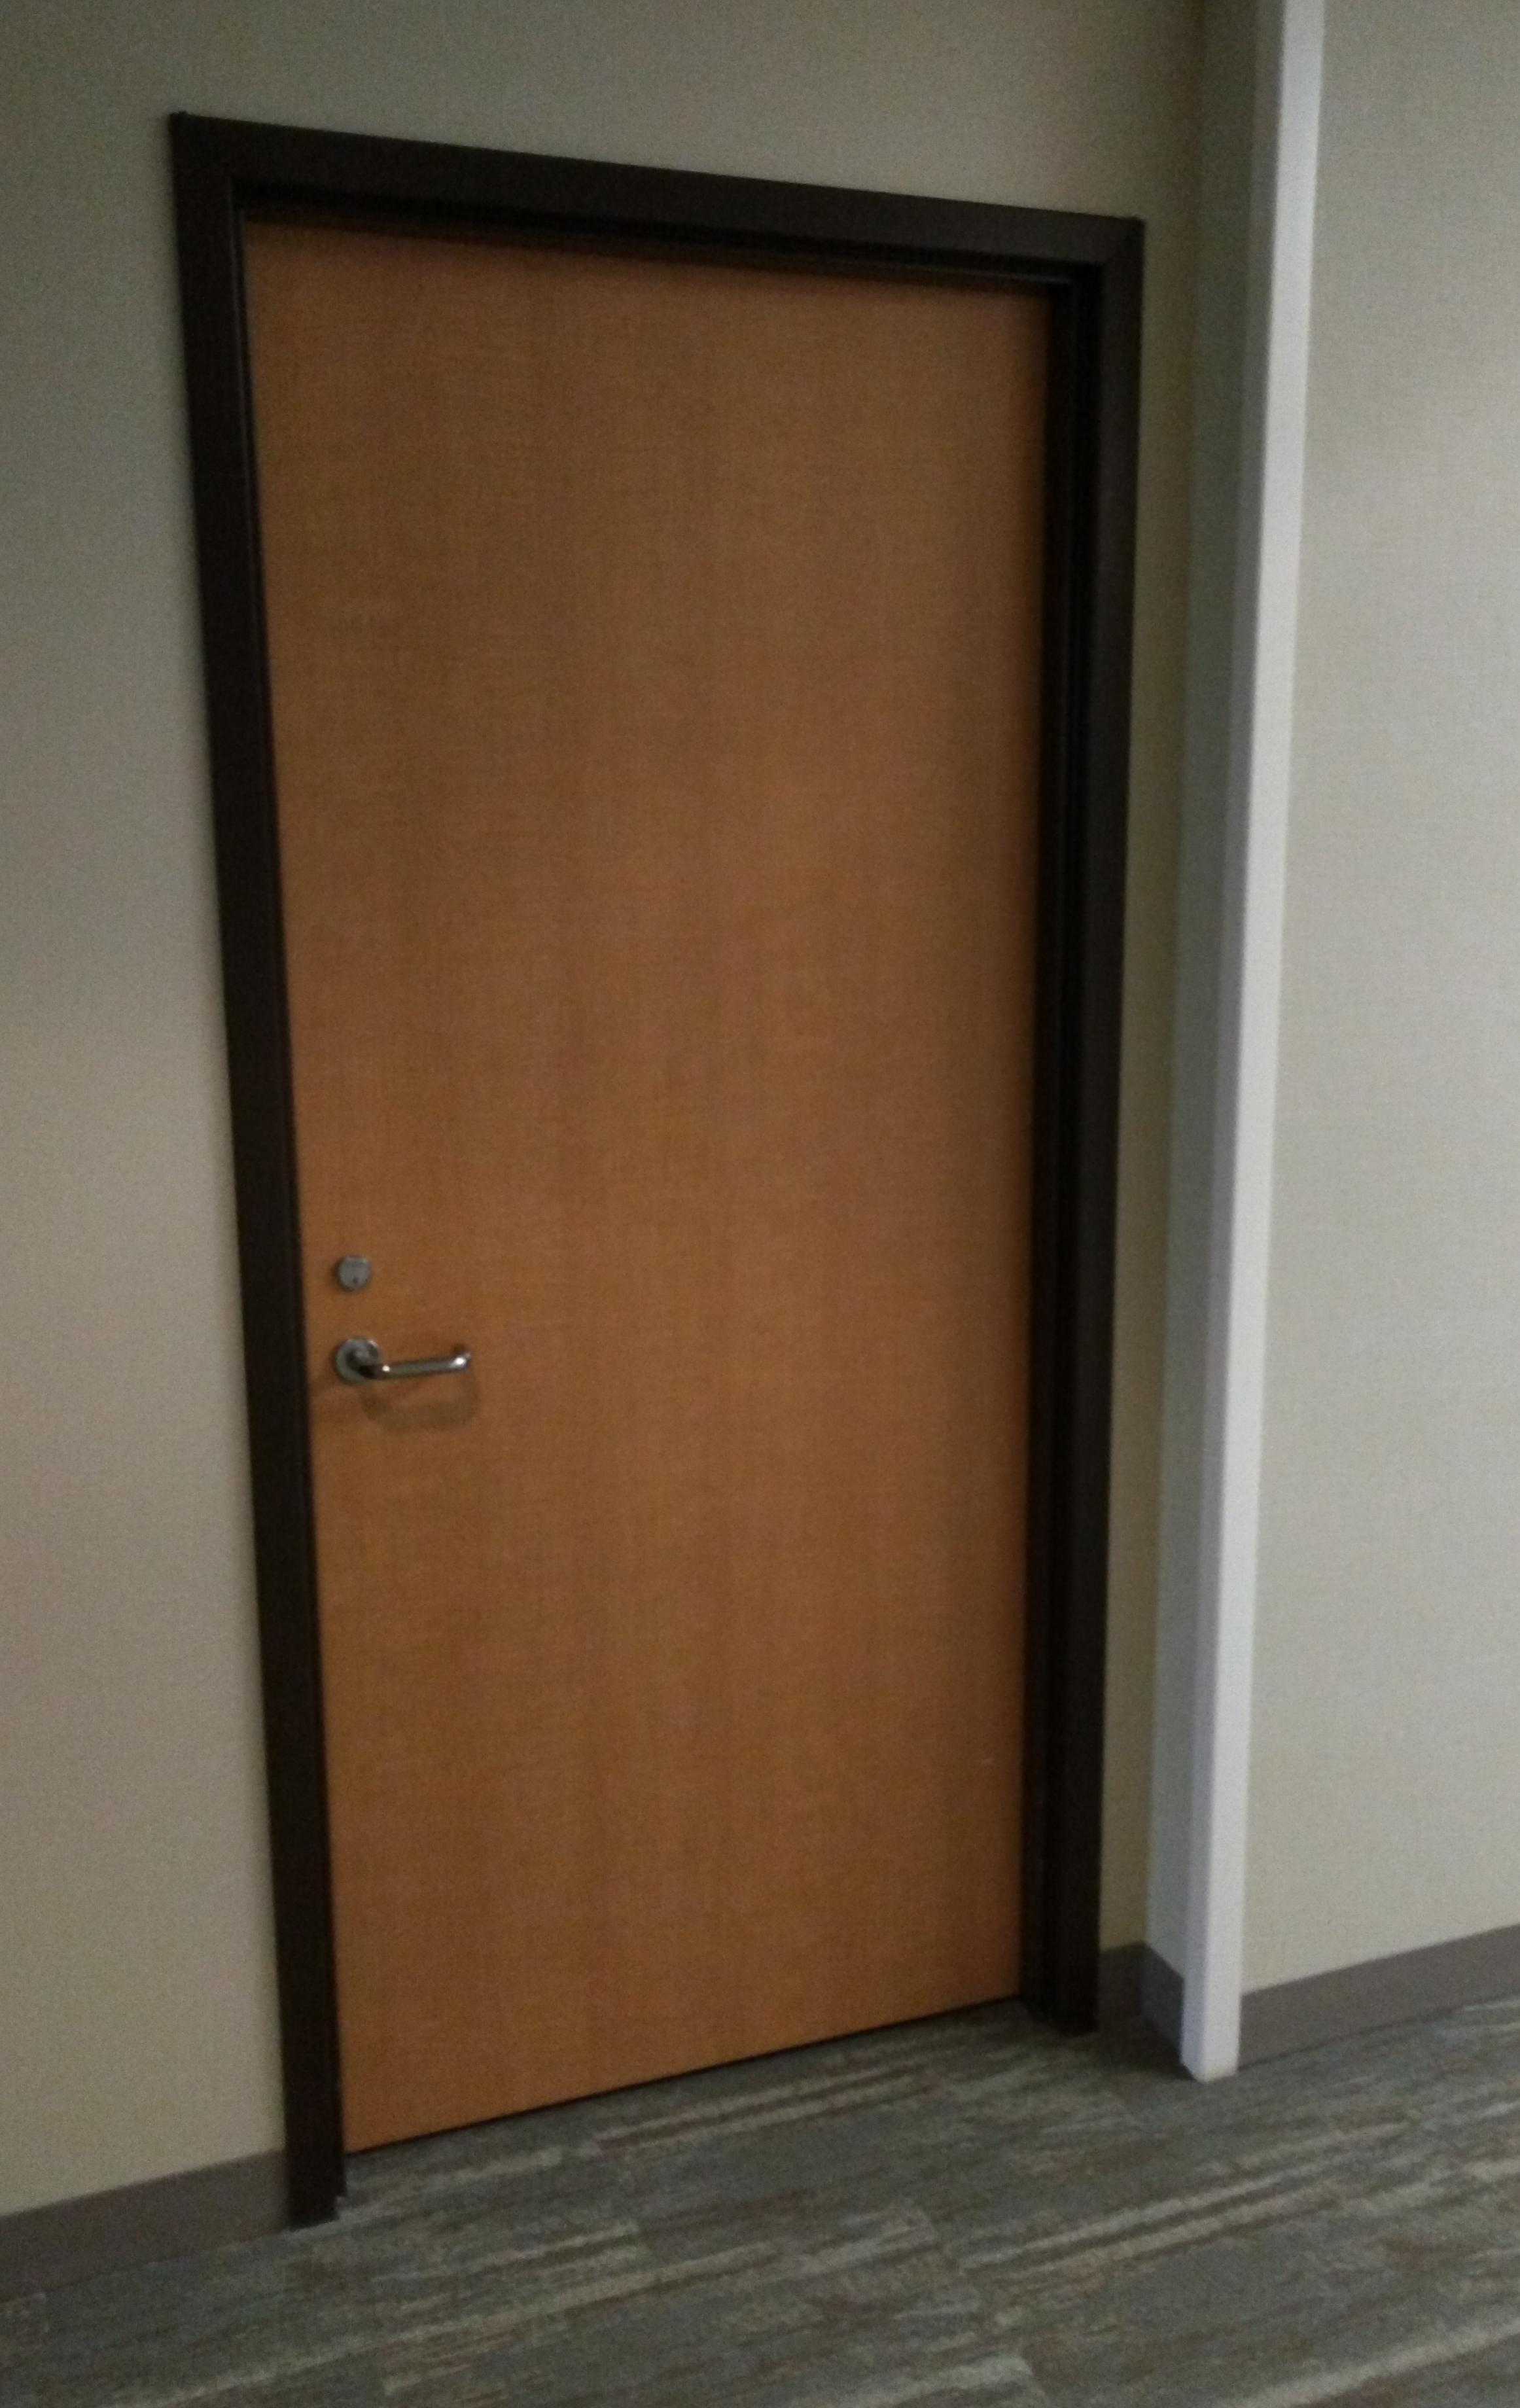door: (200, 145, 1131, 2168)
